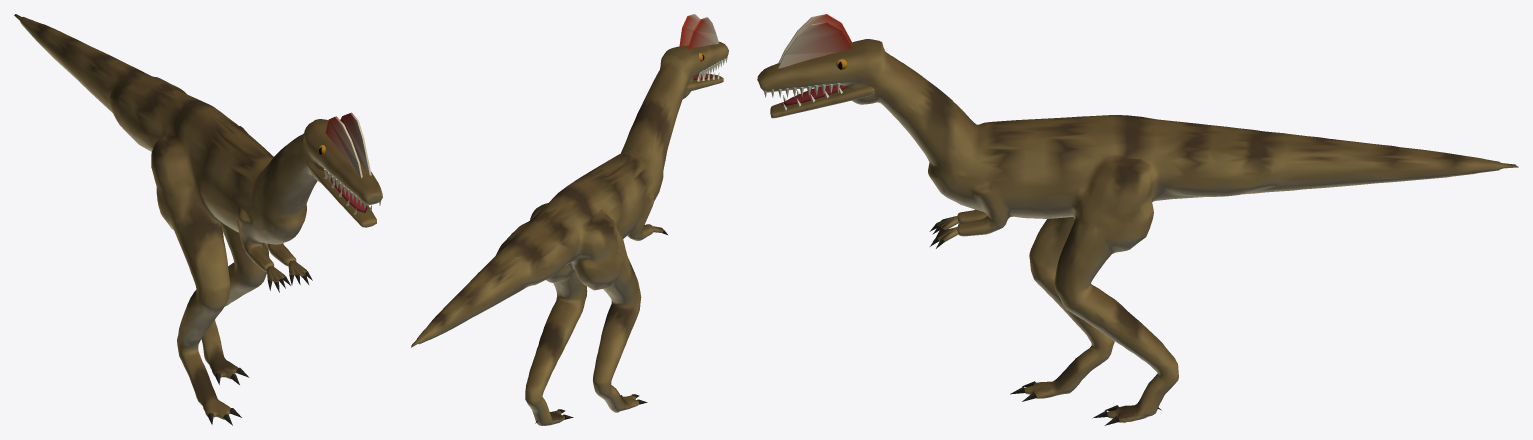
The model's file is Dilophosaurus.fbx.
The picture shows the model from 3 angles, left to right: view 1: azimuth 30°, elevation 25°; view 2: azimuth 150°, elevation 25°; view 3: azimuth 270°, elevation 25°; orthographic projection. The views are drawn at different scales.
Visible parts, largest first — view 1: Dilophosaurus; view 2: Dilophosaurus; view 3: Dilophosaurus.
Part boxes in pixels (x1,y1,x2,y2): Dilophosaurus: (14,14,382,425); Dilophosaurus: (411,14,728,425); Dilophosaurus: (757,14,1518,425).
Size of the model in its own units: 0.4399 by 1.62 by 2.87.
